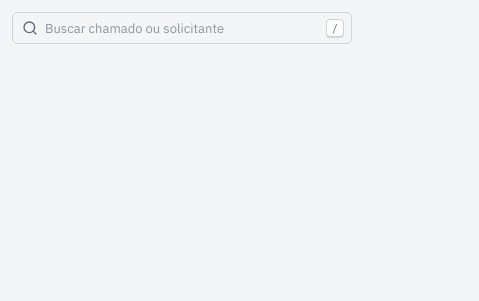
Test: SearchBox › setas navegam e Enter abre a reserva escolhida
Type "mar" into the dropdown at [182, 28], box [12,12,352,44]
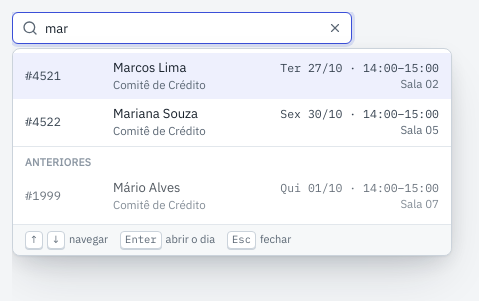
Press Arrowdown
Press Arrowup Arrowup
Press Arrowdown Arrowdown Enter
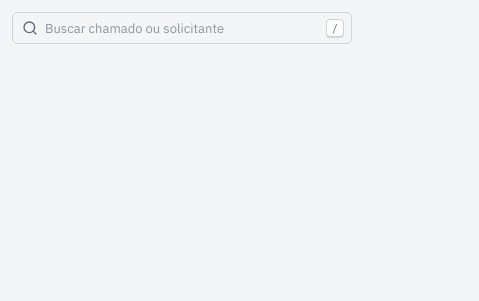
Now the dropdown is empty, box [12,12,352,44]
Now the list is gone
